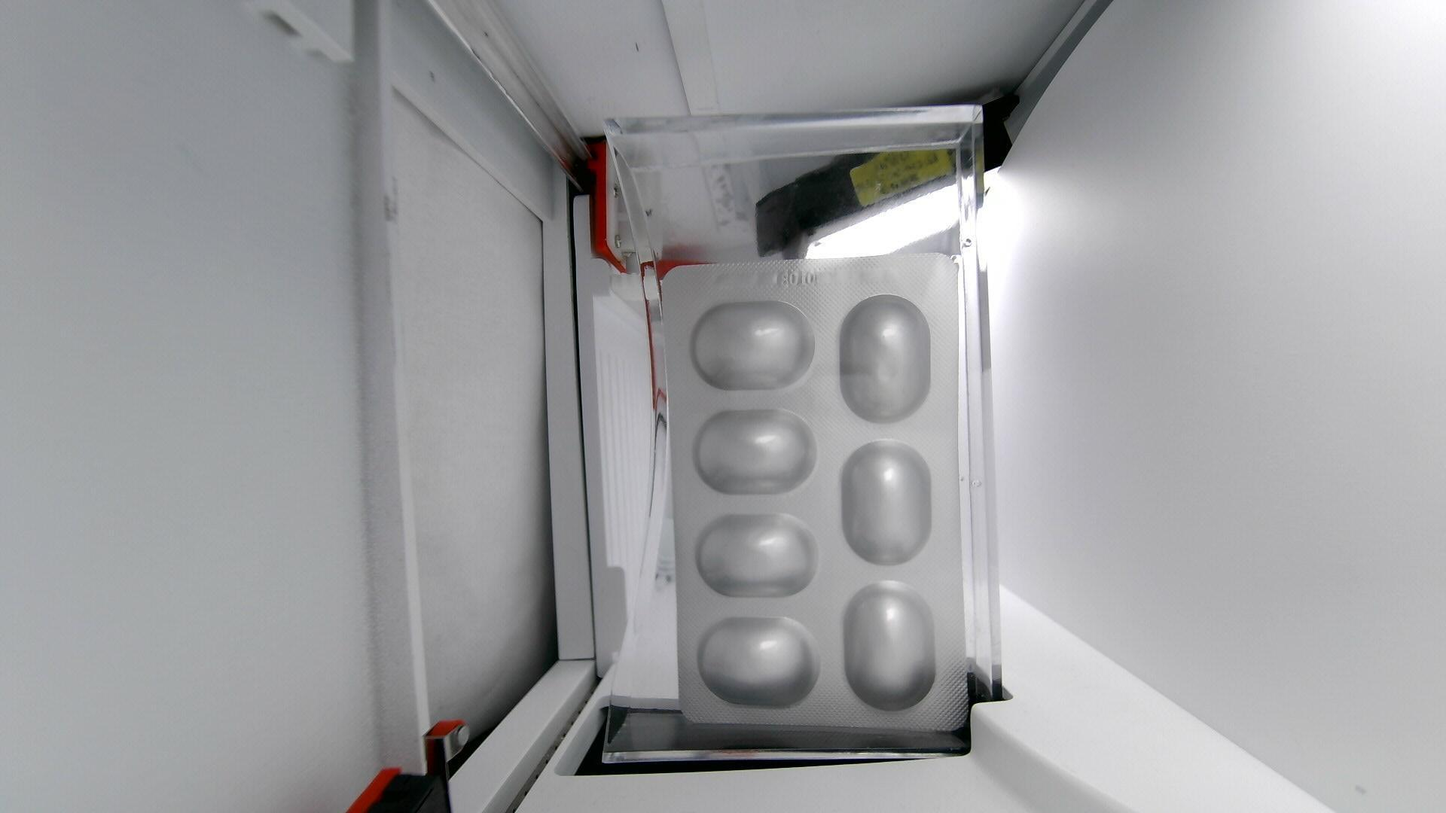Light Front: (664, 254, 968, 748)
Pill Front: (840, 295, 932, 422), (844, 585, 935, 709), (842, 442, 932, 565), (691, 302, 812, 389), (695, 410, 816, 493), (696, 515, 816, 595), (700, 618, 804, 705)
